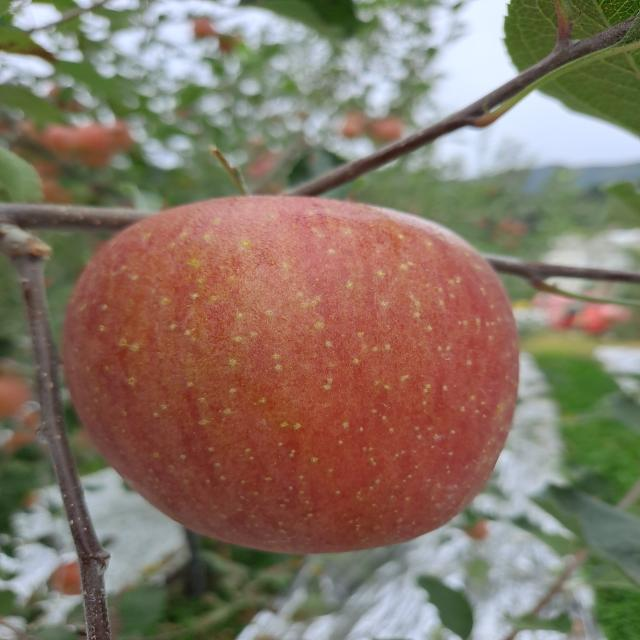fresh: (53, 188, 537, 562)
